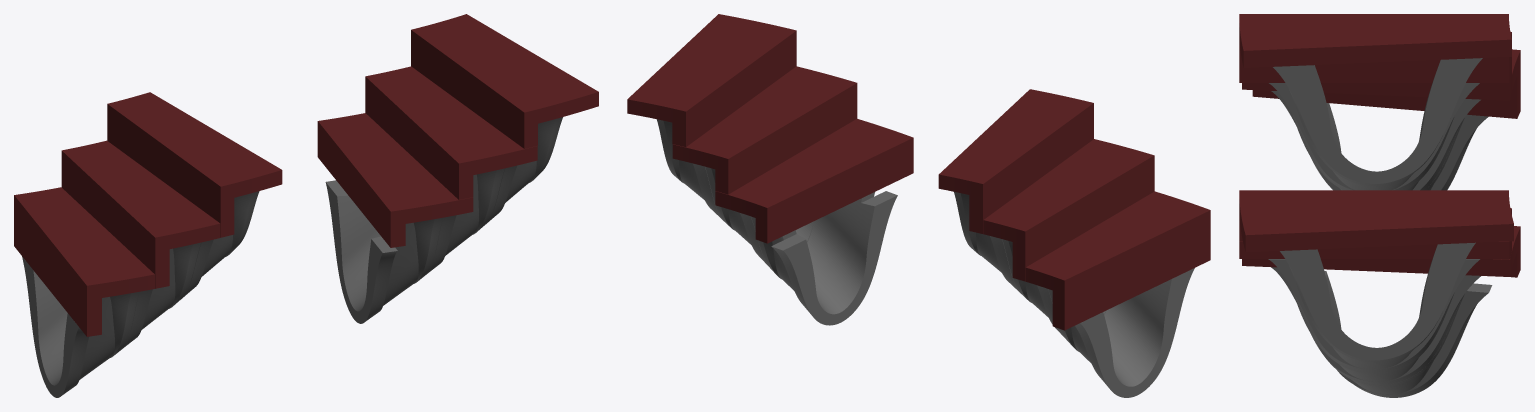
The model's file is modelo 1.glb.
3 views of the same model, side by side, from view 1: azimuth 30°, elevation 25°; view 2: azimuth 150°, elevation 25°; view 3: azimuth 270°, elevation 25° (orthographic). The views are drawn at different scales.
Visible parts, largest first — view 1: modelo 1.011, modelo 1.005, modelo 1.002, modelo 1.001, modelo 1.009, modelo 1.010, modelo 1.007, modelo 1.003, modelo 1, modelo 1.006, modelo 1.008, modelo 1.004; view 2: modelo 1.002, modelo 1.011, modelo 1.010, modelo 1.009, modelo 1.001, modelo 1.005, modelo 1.007, modelo 1.003, modelo 1.008, modelo 1.004, modelo 1.006, modelo 1; view 3: modelo 1.005, modelo 1.011, modelo 1.004, modelo 1.008, modelo 1.007, modelo 1.010, modelo 1.002, modelo 1.006, modelo 1.009, modelo 1.001, modelo 1.003, modelo 1.
Part boxes in pixels (<box>): modelo 1.011: <box>411,14,598,148</box>; modelo 1.005: <box>107,92,282,237</box>; modelo 1.002: <box>14,187,154,336</box>; modelo 1.001: <box>61,140,220,288</box>; modelo 1.009: <box>365,66,537,199</box>; modelo 1.010: <box>317,113,473,247</box>; modelo 1.007: <box>325,180,442,323</box>; modelo 1.003: <box>22,256,139,397</box>; modelo 1: <box>123,242,200,347</box>; modelo 1.006: <box>426,168,504,274</box>; modelo 1.008: <box>484,117,562,225</box>; modelo 1.004: <box>182,191,259,298</box>; modelo 1.002: <box>1025,191,1210,330</box>; modelo 1.011: <box>627,14,796,146</box>; modelo 1.010: <box>715,118,913,243</box>; modelo 1.009: <box>672,66,857,194</box>; modelo 1.001: <box>983,139,1154,281</box>; modelo 1.005: <box>938,89,1093,233</box>; modelo 1.007: <box>751,191,897,325</box>; modelo 1.003: <box>1048,268,1194,397</box>; modelo 1.008: <box>657,119,723,220</box>; modelo 1.004: <box>954,192,1020,293</box>; modelo 1.006: <box>705,166,813,266</box>; modelo 1: <box>1002,239,1105,338</box>; modelo 1.005: <box>1239,14,1511,82</box>; modelo 1.011: <box>1239,190,1513,252</box>; modelo 1.004: <box>1269,58,1482,190</box>; modelo 1.008: <box>1268,242,1479,372</box>; modelo 1.007: <box>1311,271,1492,397</box>; modelo 1.010: <box>1242,226,1520,277</box>; modelo 1.002: <box>1252,49,1520,118</box>; modelo 1.006: <box>1271,267,1480,384</box>; modelo 1.009: <box>1239,208,1511,259</box>; modelo 1.001: <box>1242,31,1511,100</box>; modelo 1.003: <box>1311,103,1488,190</box>; modelo 1: <box>1271,91,1480,190</box>.
Size of the model in its own units: 109 by 46.32 by 43.81.
